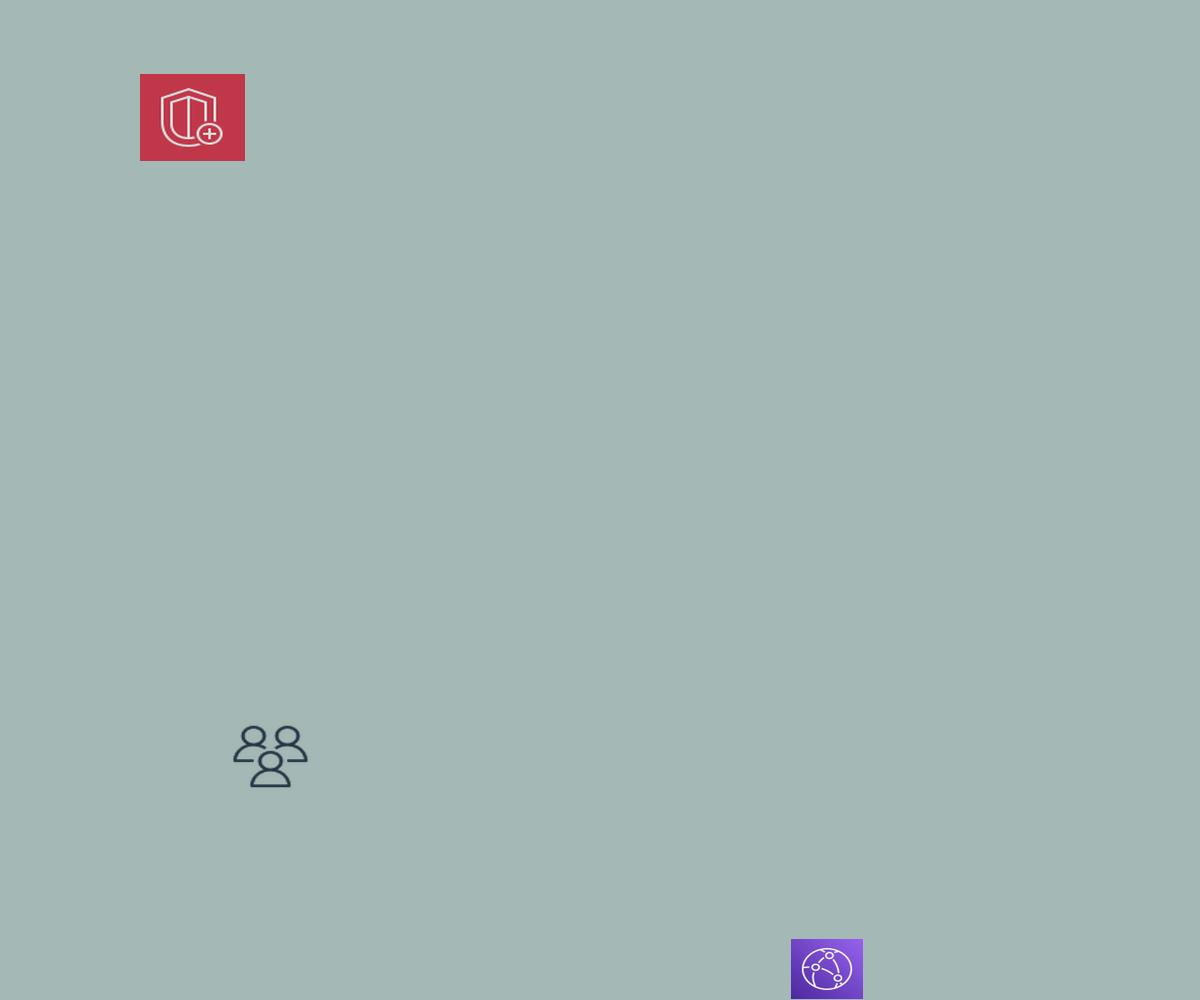AWS-CloudFront: (791, 939, 863, 999)
AWS-Res_Users: (230, 723, 311, 790)
AWS-Shield: (140, 74, 245, 161)
